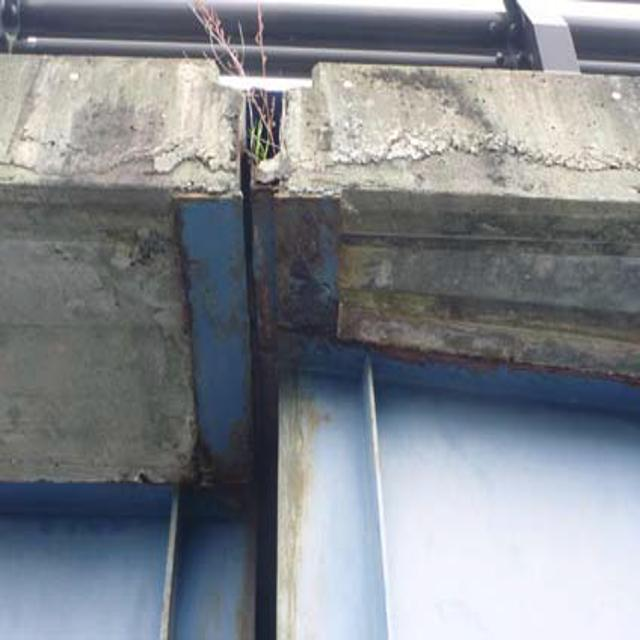corrosion: (240, 210, 394, 387)
